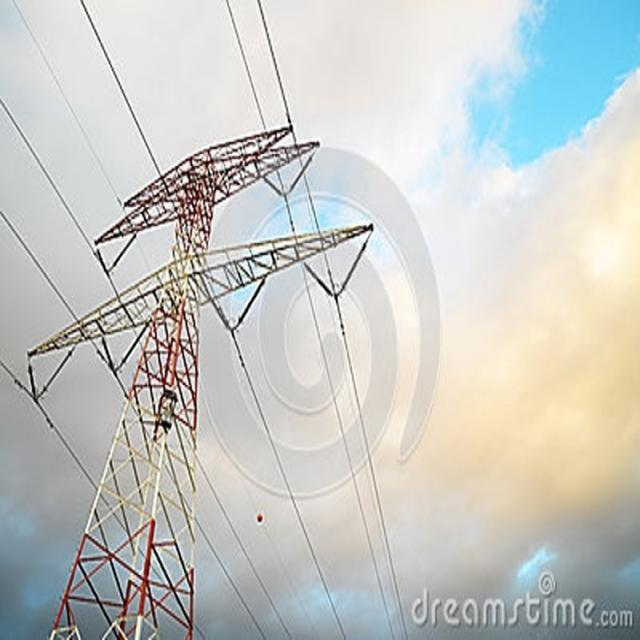non-critical vegetation: (4, 125, 382, 622)
